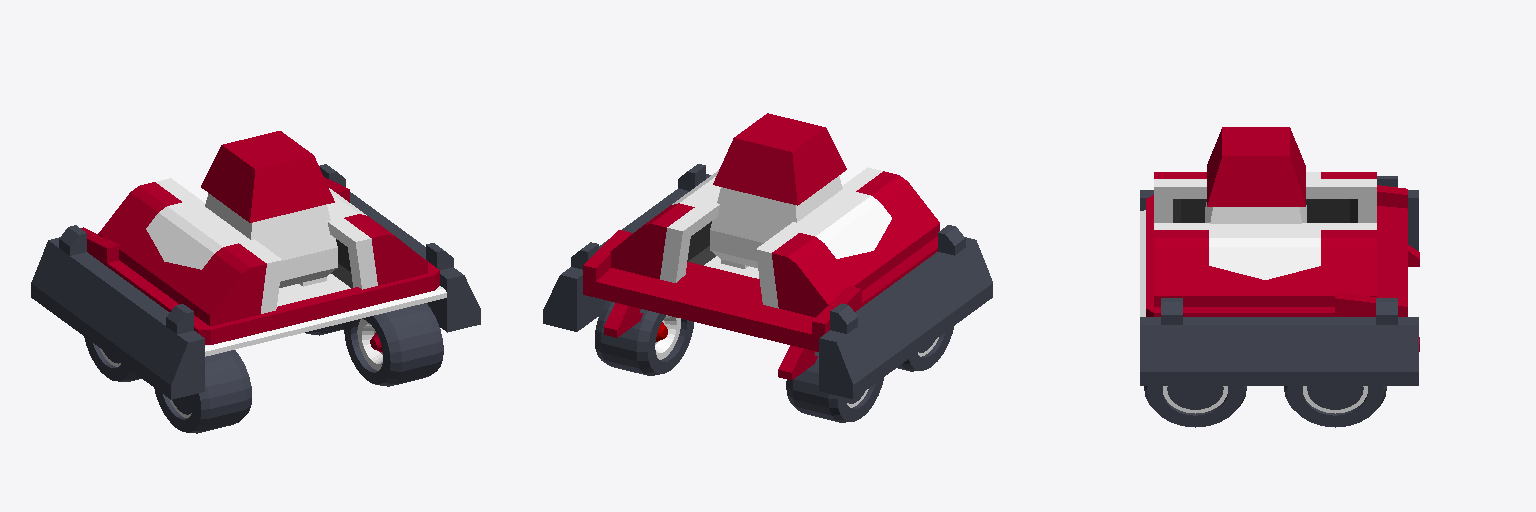
File: enemyRangeRadiusUnitBase.obj
3 renders of one model, left to right at view 1: azimuth 30°, elevation 25°; view 2: azimuth 150°, elevation 25°; view 3: azimuth 270°, elevation 25°, orthographic.
Size of the model in its own units: 1.28 by 0.904 by 1.